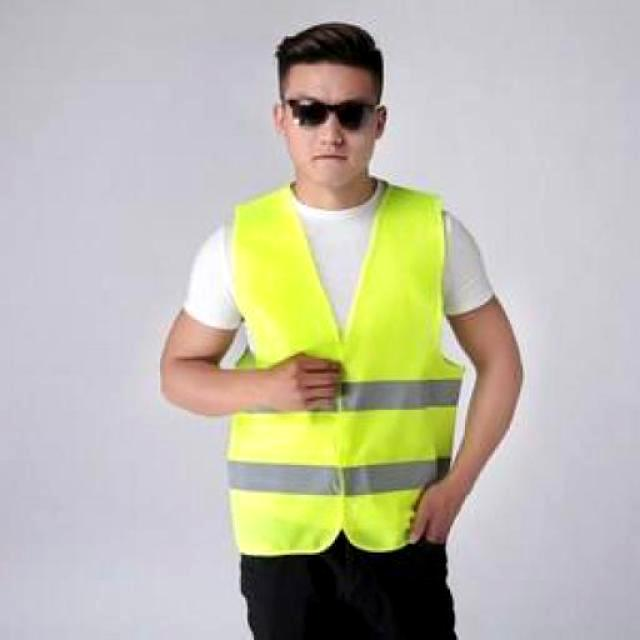no_head_wear: (275, 24, 381, 88)
person: (161, 22, 521, 639)
